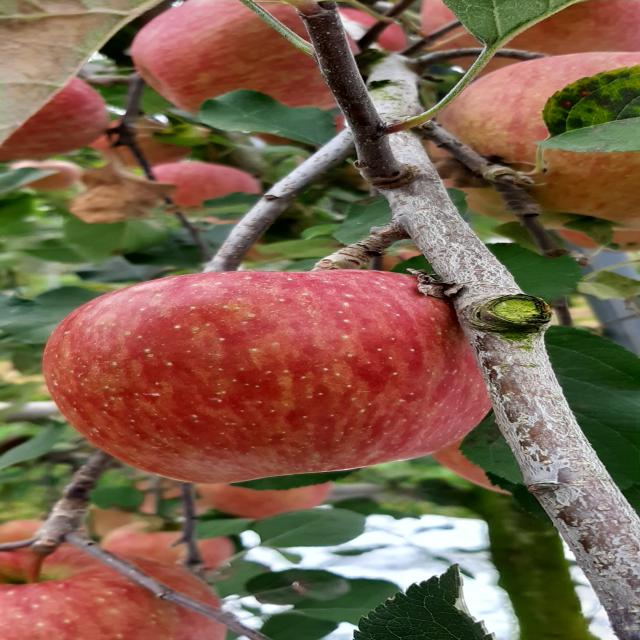fresh: (36, 266, 513, 496)
